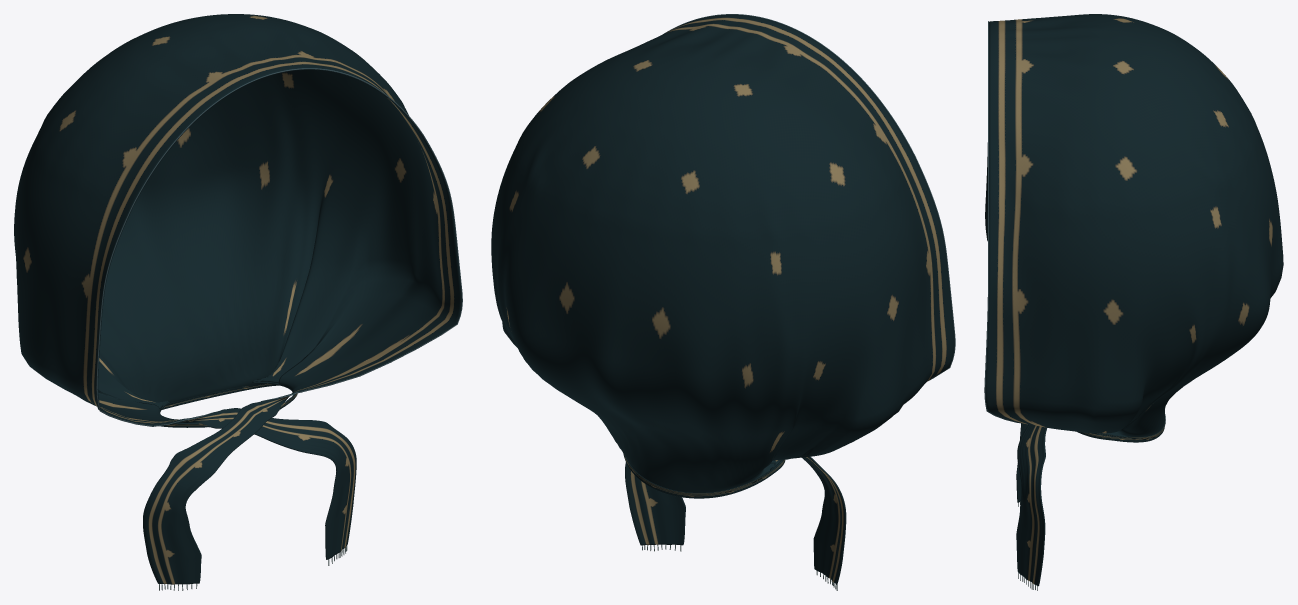
File: Masculine-sweatshirt-compact-pashmina248-headgear.glb
3 views of the same model, side by side, from view 1: azimuth 30°, elevation 25°; view 2: azimuth 150°, elevation 25°; view 3: azimuth 270°, elevation 25° (orthographic). The views are drawn at different scales.
Parts seen in each view (by area): view 1: 226 headgear / Headwear / continuous woven pashmina239, 226 headgear / Headwear / face edge239; view 2: 226 headgear / Headwear / continuous woven pashmina239, 226 headgear / Headwear / face edge239; view 3: 226 headgear / Headwear / continuous woven pashmina239, 226 headgear / Headwear / face edge239.
Boxes of the visible parts, x1,y1,x2,y2 form: 226 headgear / Headwear / continuous woven pashmina239: (14,14,461,584); 226 headgear / Headwear / face edge239: (96,68,462,426); 226 headgear / Headwear / continuous woven pashmina239: (491,14,954,584); 226 headgear / Headwear / face edge239: (664,14,955,380); 226 headgear / Headwear / continuous woven pashmina239: (985,14,1283,586); 226 headgear / Headwear / face edge239: (984,21,1022,423).
Size of the model in its own units: 1.03 by 1.35 by 0.7123.
3 materials, 1 textured.
